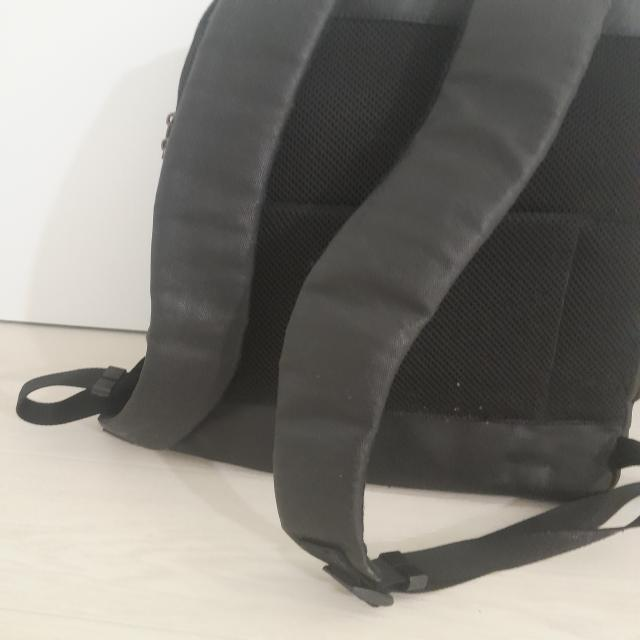backpack: (18, 0, 640, 606)
